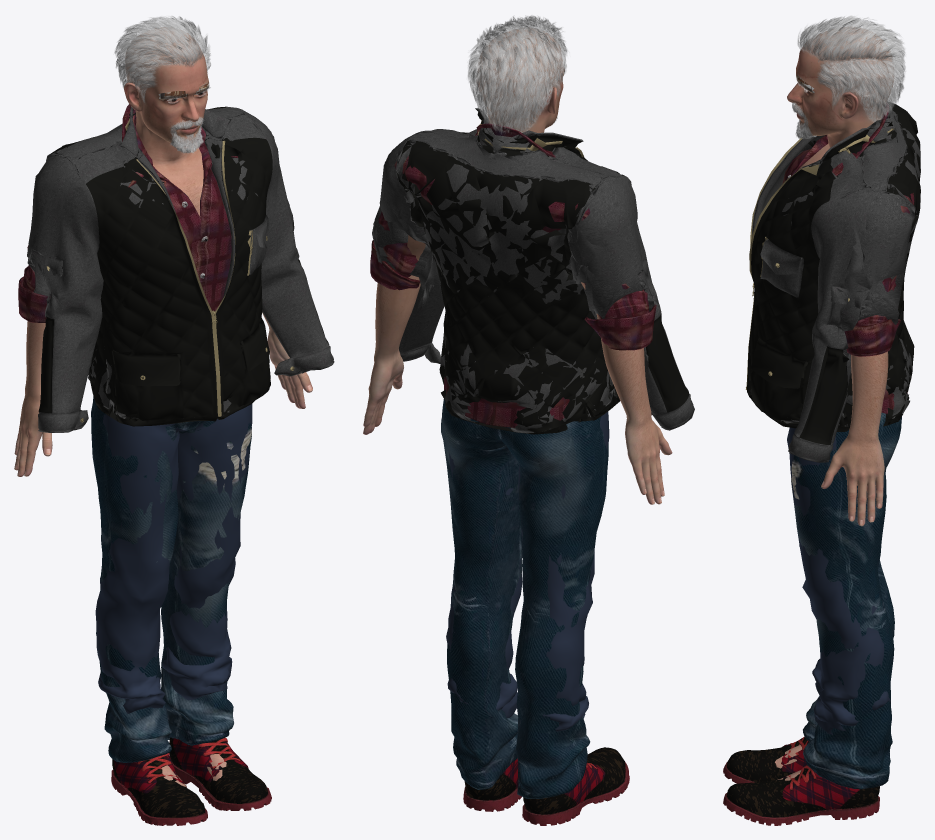
The model's file is leo.glb.
3 renders of one model, left to right at view 1: azimuth 30°, elevation 25°; view 2: azimuth 150°, elevation 25°; view 3: azimuth 270°, elevation 25°, orthographic. The views are drawn at different scales.
Parts seen in each view (by area): view 1: Mens_Jacket, Biker_Jeans, Jeans, CC_Base_Body, Boots, Short_blowback, Plaid_Punk_Shirt, Jacket_Shirt; view 2: Mens_Jacket, Jeans, CC_Base_Body, Short_blowback, Plaid_Punk_Shirt, Biker_Jeans, Boots, Jacket_Shirt; view 3: Mens_Jacket, Jeans, CC_Base_Body, Boots, Biker_Jeans, Short_blowback, Plaid_Punk_Shirt, Jacket_Shirt.
Part boxes in pixels (x1,y1,x2,y2): Mens_Jacket: (27, 106, 334, 432); Biker_Jeans: (95, 404, 252, 713); Jeans: (91, 396, 251, 762); CC_Base_Body: (14, 27, 312, 787); Boots: (111, 737, 271, 825); Short_blowback: (114, 16, 210, 103); Plaid_Punk_Shirt: (18, 106, 237, 322); Jacket_Shirt: (122, 104, 236, 277); Mens_Jacket: (372, 108, 694, 434); Jeans: (441, 399, 608, 798); CC_Base_Body: (363, 29, 672, 504); Short_blowback: (468, 15, 569, 133); Plaid_Punk_Shirt: (370, 124, 656, 427); Biker_Jeans: (446, 411, 609, 731); Boots: (463, 747, 629, 825); Jacket_Shirt: (413, 123, 563, 232); Mens_Jacket: (745, 101, 920, 462); Jeans: (791, 412, 901, 789); CC_Base_Body: (775, 27, 893, 780); Boots: (723, 736, 879, 825); Biker_Jeans: (787, 427, 890, 735); Short_blowback: (797, 15, 905, 122); Plaid_Punk_Shirt: (782, 105, 914, 413); Jacket_Shirt: (784, 103, 914, 202).
Size of the model in its own units: 0.7348 by 1.83 by 0.4229.
Materials: 25 (22 with a texture image).
